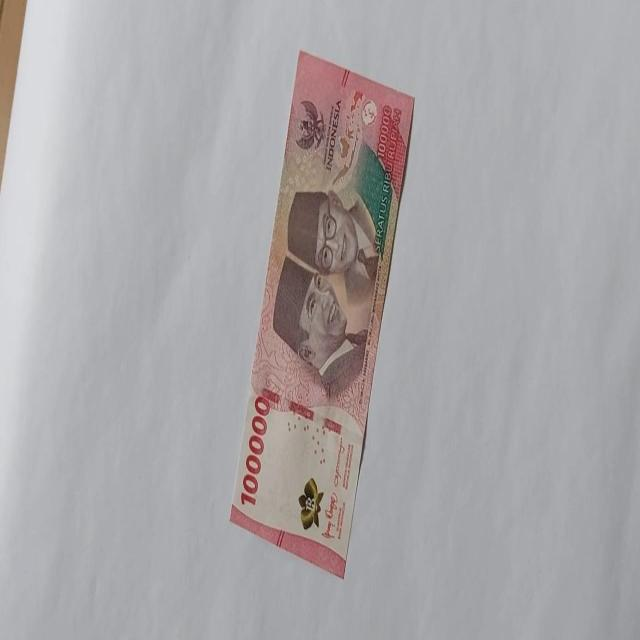Kertas: (228, 48, 416, 579), (240, 393, 270, 508)
